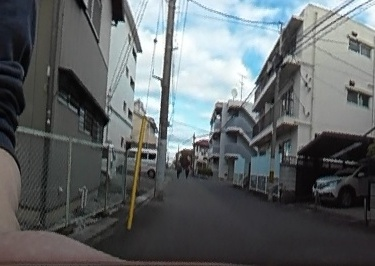person: (174, 159, 182, 181), (182, 161, 191, 177)
